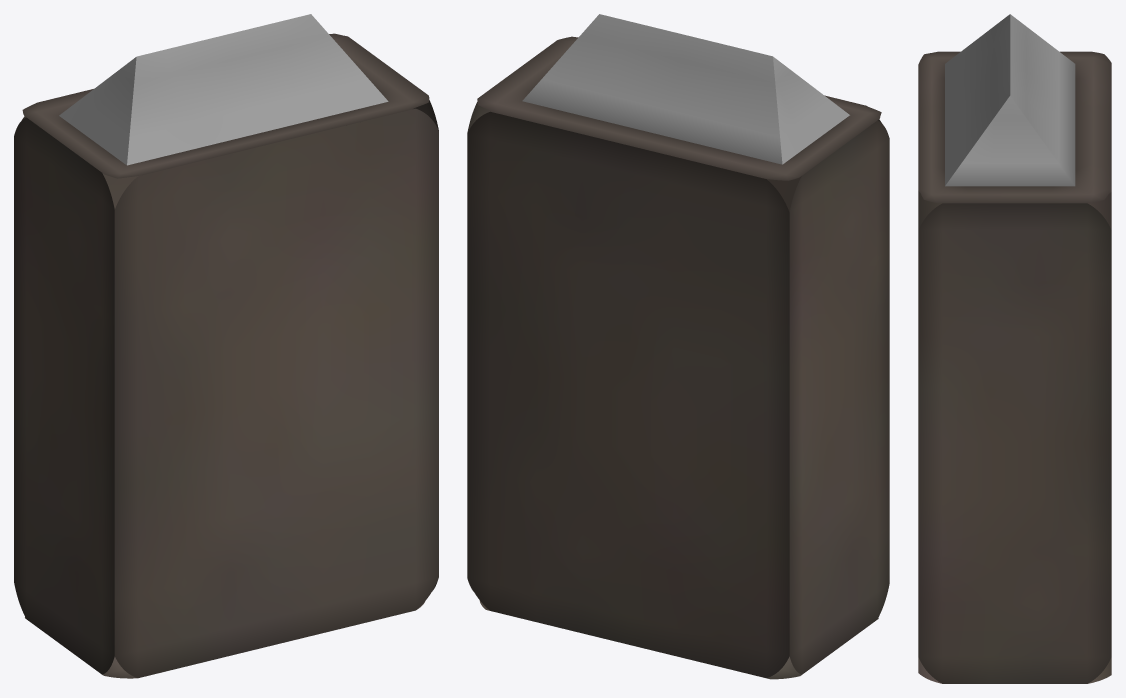
The model's file is blade.obj.
3 renders of one model, left to right at view 1: azimuth 30°, elevation 25°; view 2: azimuth 150°, elevation 25°; view 3: azimuth 270°, elevation 25°, orthographic. The views are drawn at different scales.
Parts seen in each view (by area): view 1: blade; view 2: blade; view 3: blade.
Boxes of the visible parts, box(x1,y1,x2,y2) form: blade: box(14, 14, 438, 678); blade: box(467, 14, 889, 679); blade: box(918, 14, 1111, 683).
Bounding box in the file's own units: 0.3715 × 0.63 × 0.2.
